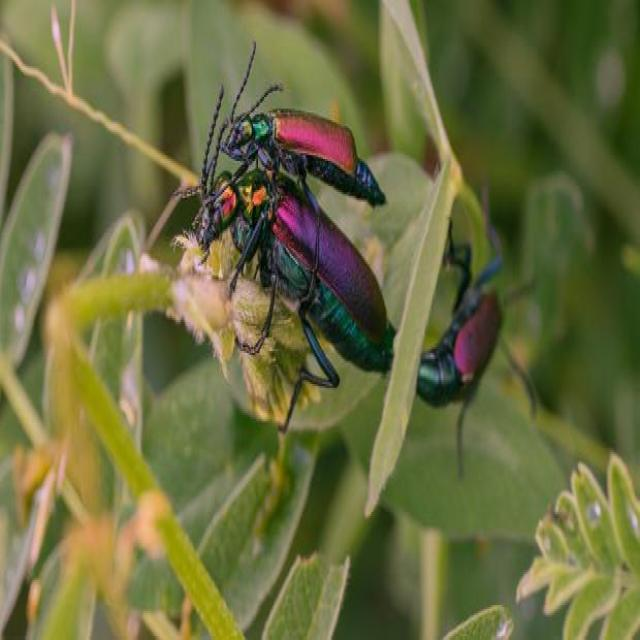BlisterBeetle-Adult-: (179, 168, 399, 423), (412, 200, 542, 442), (218, 38, 394, 213)
